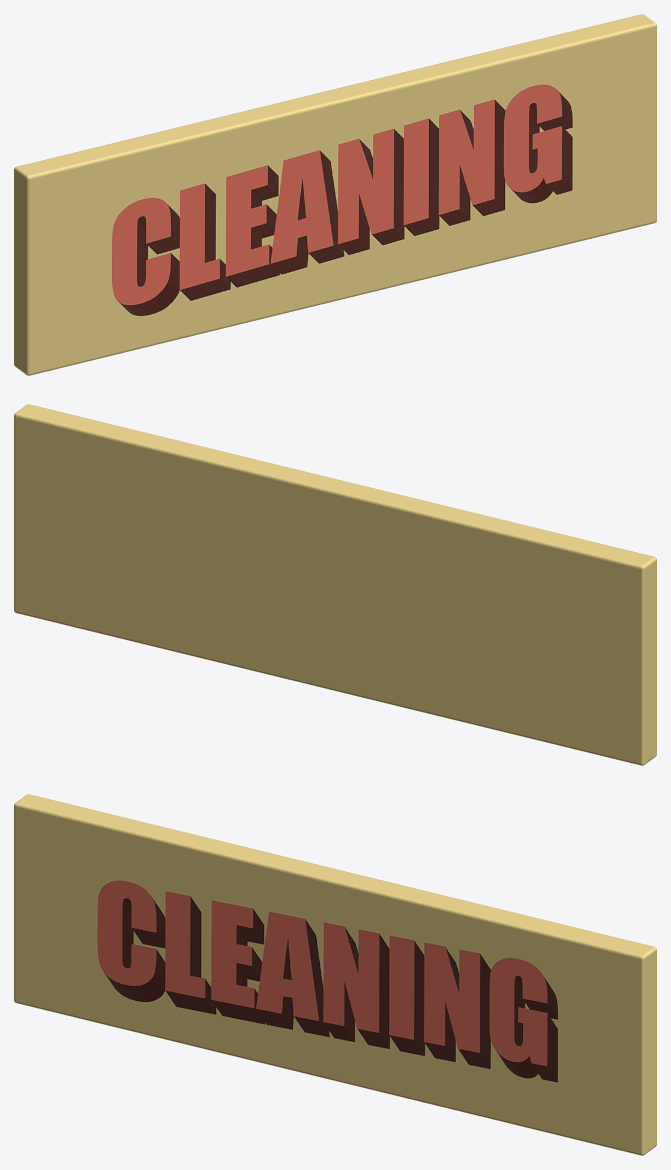
File: cleaning.fbx
3 renders of one model, top to bottom at view 1: azimuth 30°, elevation 25°; view 2: azimuth 150°, elevation 25°; view 3: azimuth 330°, elevation 25°, orthographic.
Visible parts, largest first — view 1: cleaning; view 2: cleaning; view 3: cleaning.
Part boxes in pixels (box(x1,y1,x2,y2)): cleaning: box(14, 14, 656, 375); cleaning: box(14, 404, 656, 765); cleaning: box(14, 794, 656, 1155).
Bounding box in the file's own units: 125 × 38 × 5.
Materials: 1 (1 with a texture image).
